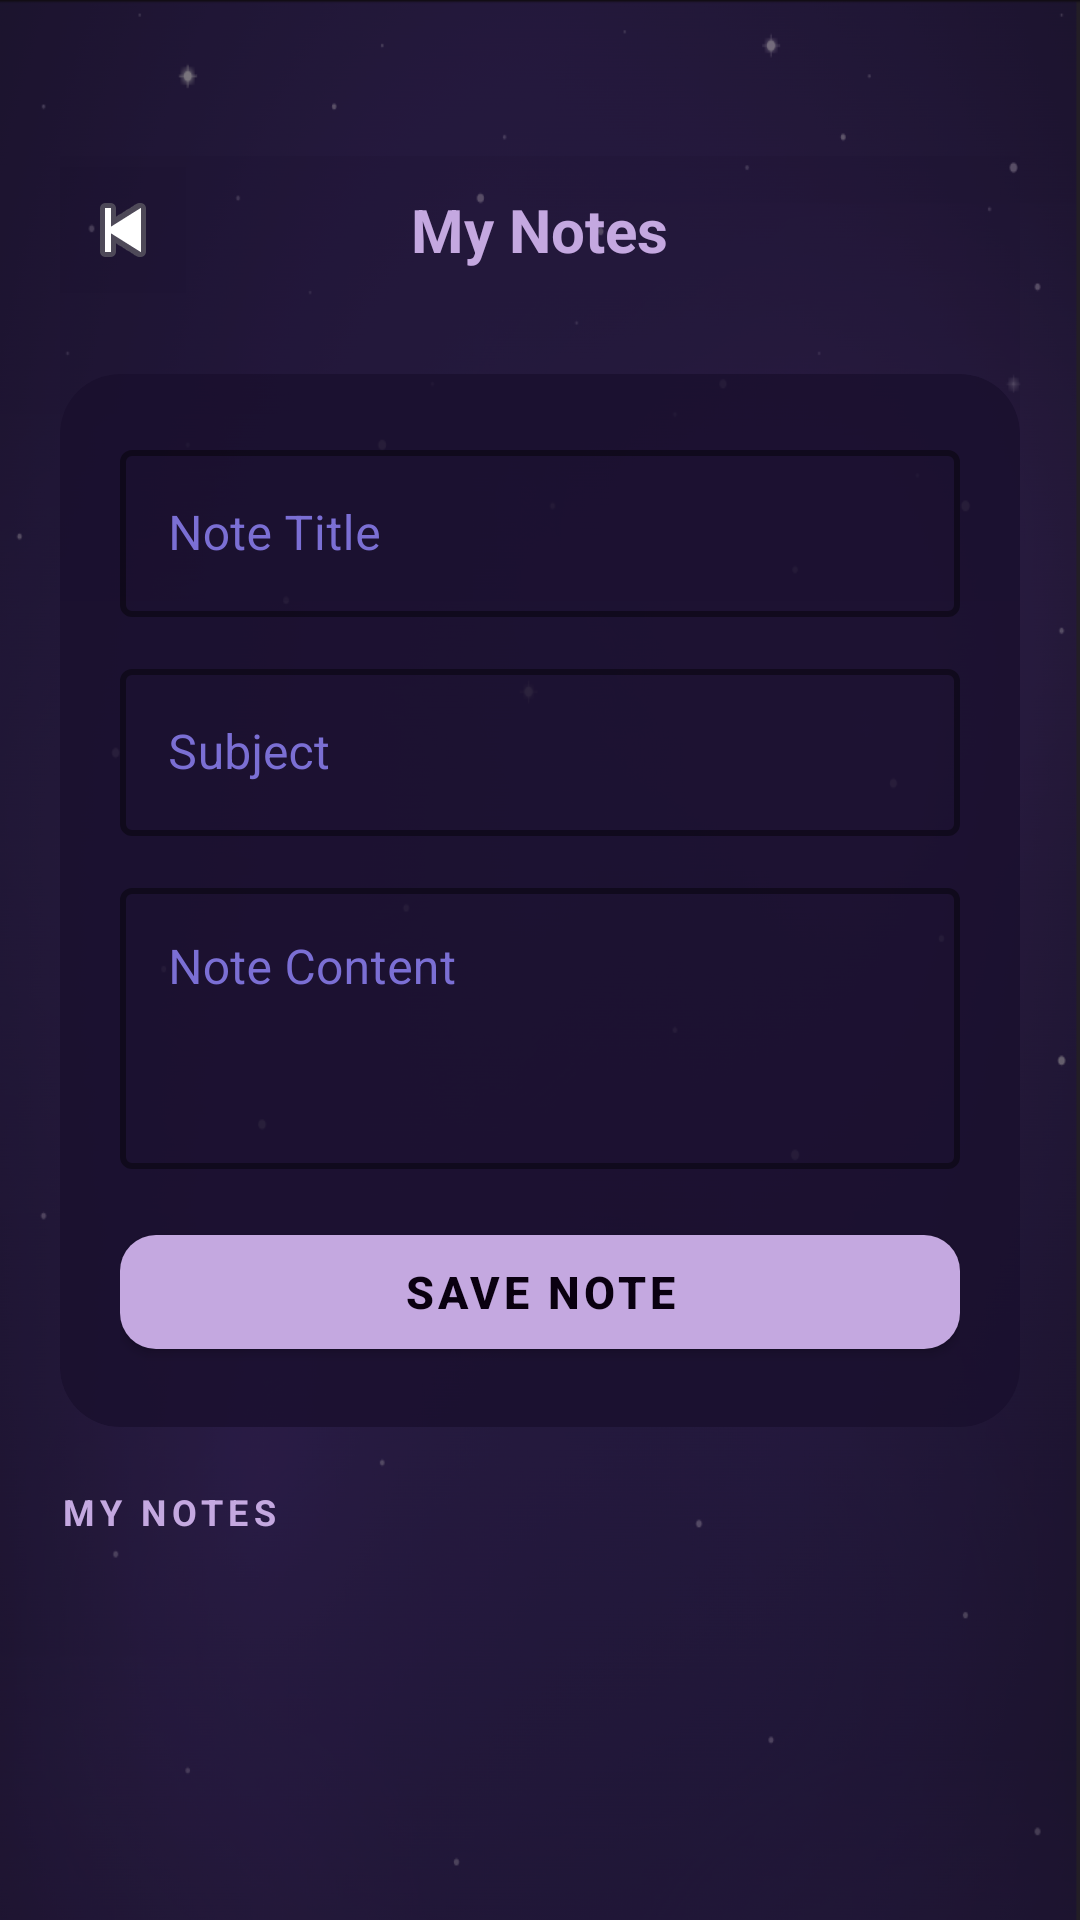

Where icons sit on this 1080px×1920px app screen, as (x1, y1, x2, y2):
previous: (89, 203, 146, 257)
